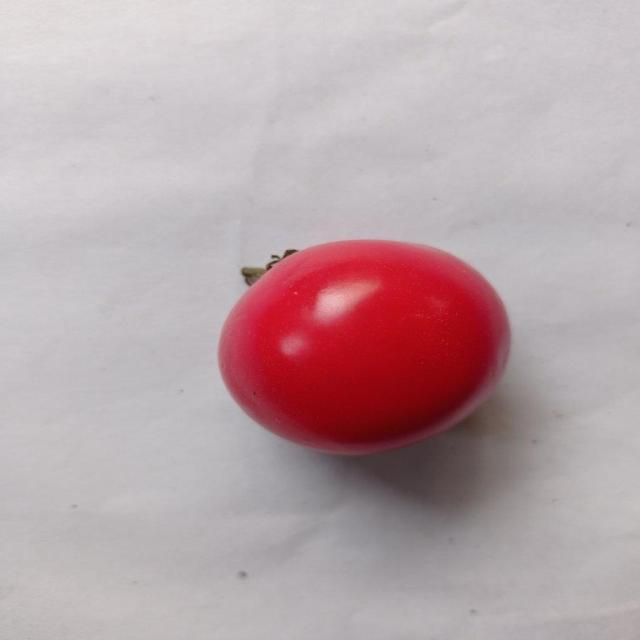Tomato: (212, 237, 521, 458)
